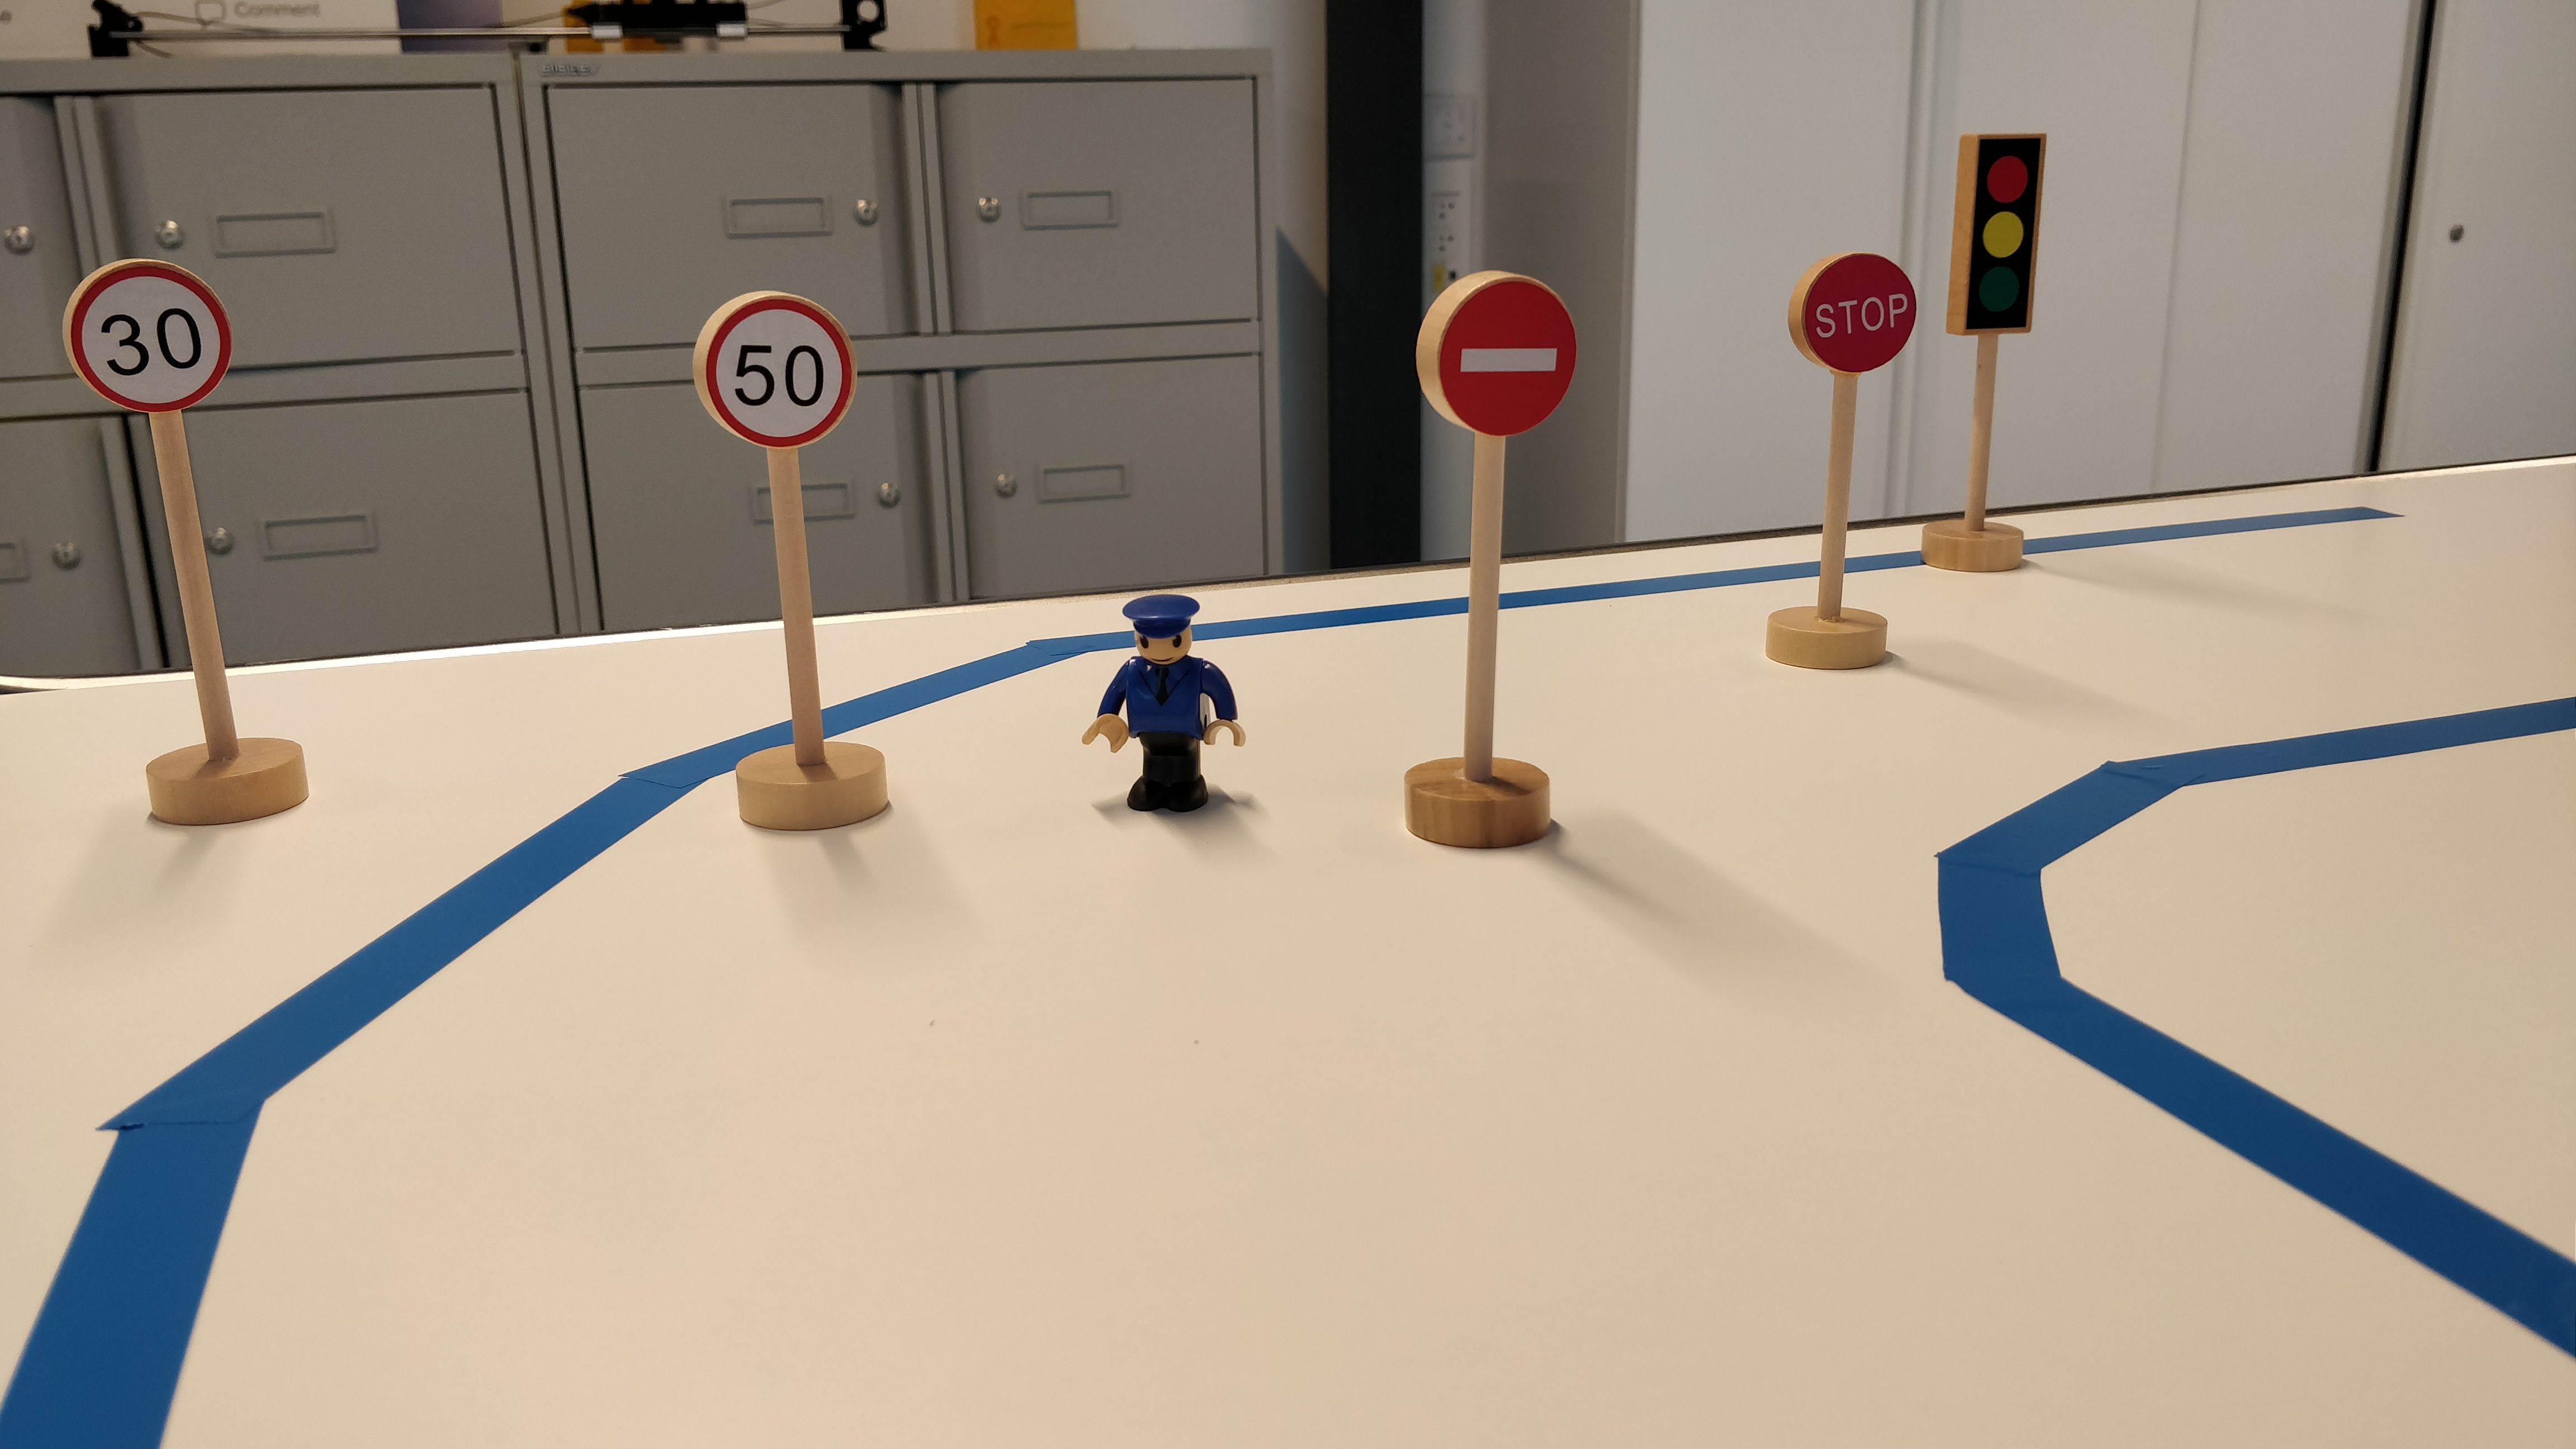Person: (1074, 588, 1253, 822)
Prohibition Sign: (1404, 266, 1583, 445)
Speed Limit 30: (60, 255, 235, 416)
Speed Limit 50: (685, 285, 860, 452)
Stop Sign: (1785, 244, 1919, 375)
Traffic Light: (1943, 131, 2051, 341)
